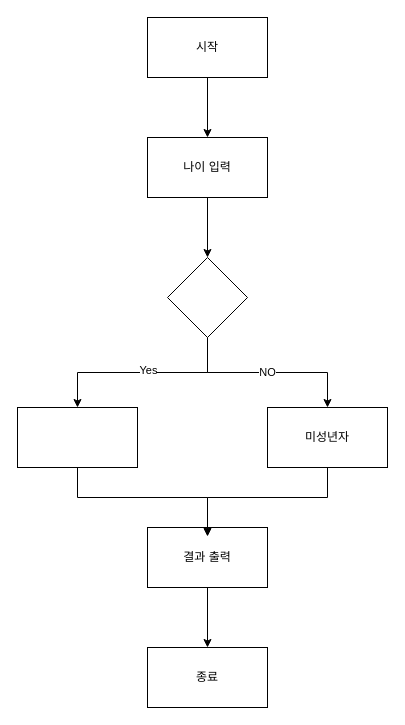
The diagram is 405 pixels wide and 725 high, and some of its shapes have lost their labels. The shapes that lost their labels are listed below. From the top down, each one's centre as x and y in pixels, then its label:
At point 207,297: "나이 <= 19 ?".
At point 77,437: "성인".
